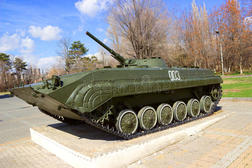bmp: (10, 30, 224, 135)
